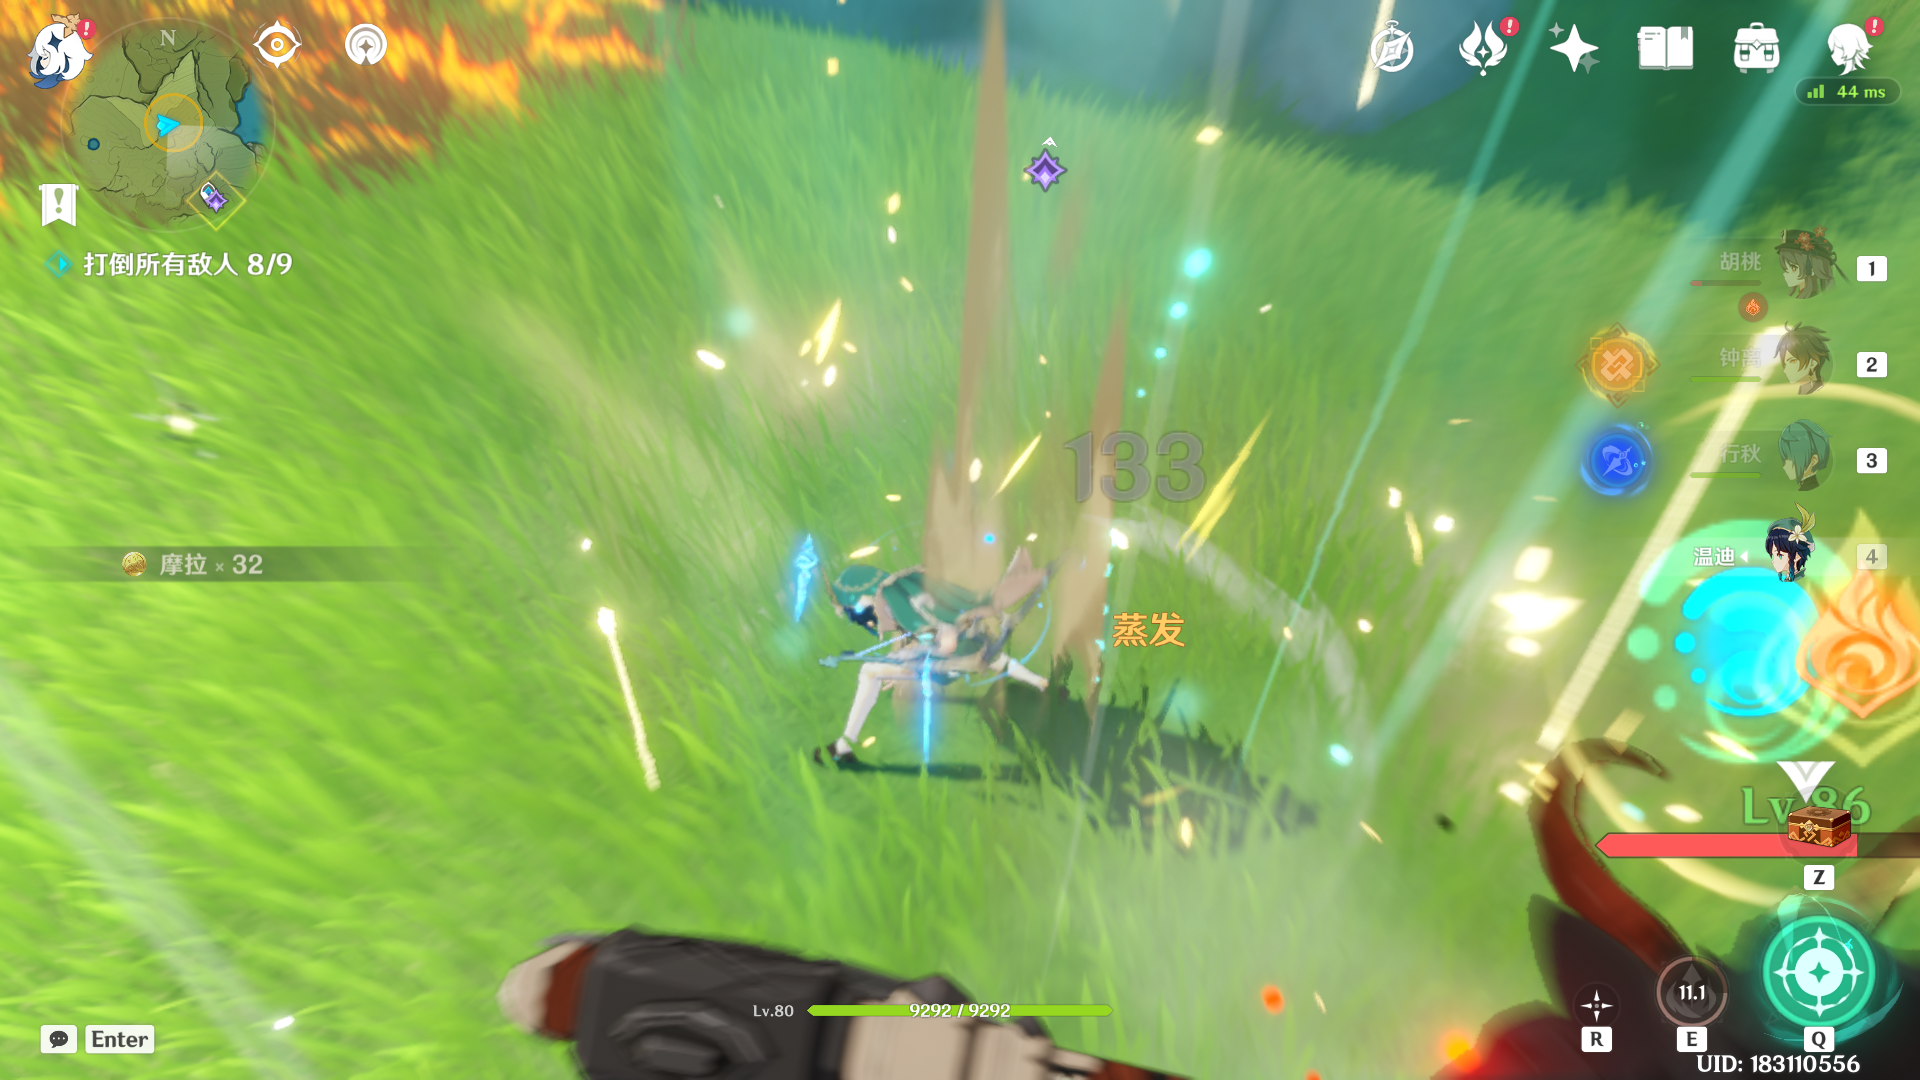character: (795, 502, 1097, 841)
